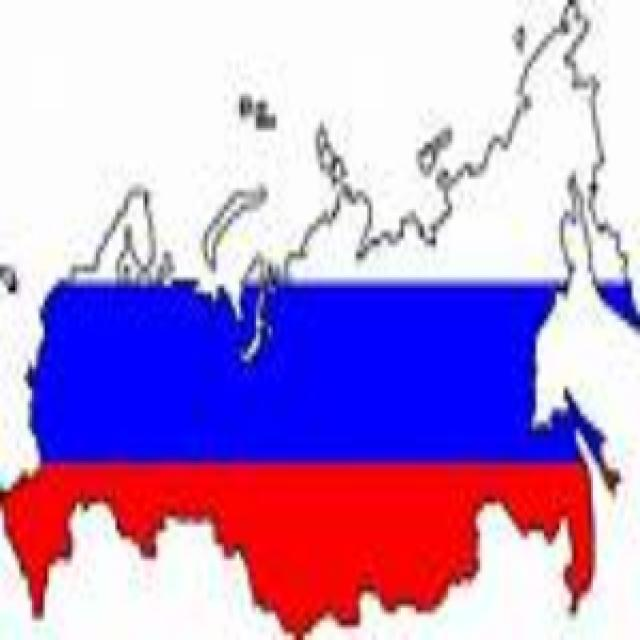russia: (12, 143, 626, 638)
